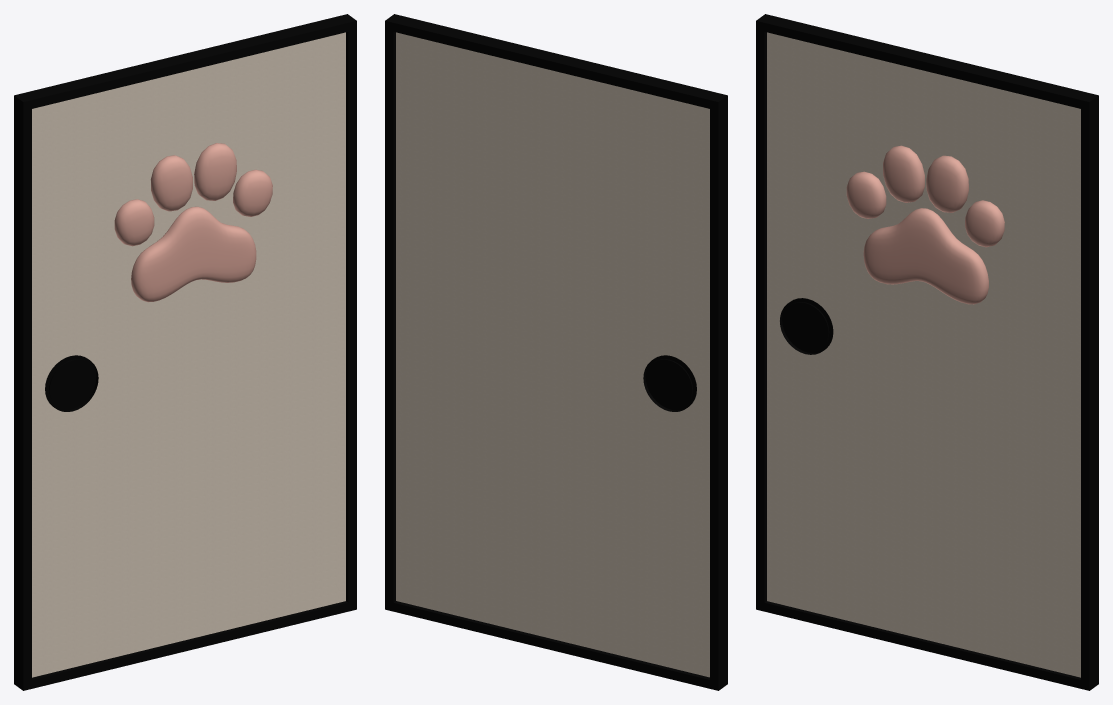
Rendered from door.gltf.
The picture shows the model from 3 angles, left to right: view 1: azimuth 30°, elevation 25°; view 2: azimuth 150°, elevation 25°; view 3: azimuth 330°, elevation 25°; orthographic projection.
Visible parts, largest first — view 1: Cube.025; view 2: Cube.025; view 3: Cube.025.
Part boxes in pixels (left/top/right/bottom): Cube.025: left=14, top=14, right=356, bottom=690; Cube.025: left=385, top=14, right=727, bottom=690; Cube.025: left=756, top=14, right=1098, bottom=690.
Bounding box in the file's own units: 0.8373 × 1.41 × 0.0659.
3 materials, 1 textured.
